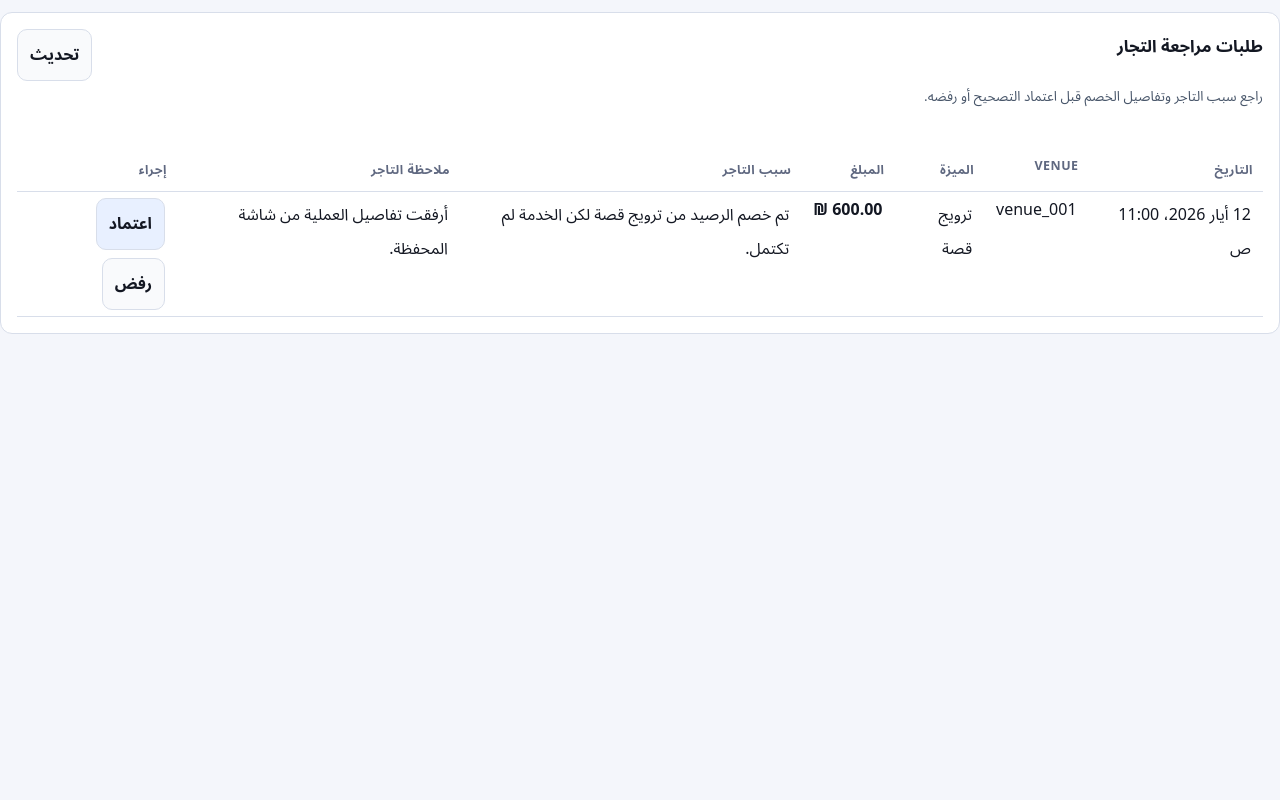
Test: MerchantReversalReviewPanel › shows super admin second approval path for amount 600
Click the button with aria-label "اعتماد طلب مراجعة merchant_review_entry-001" at x=130, y=224, box left=96, top=198, right=165, bottom=250
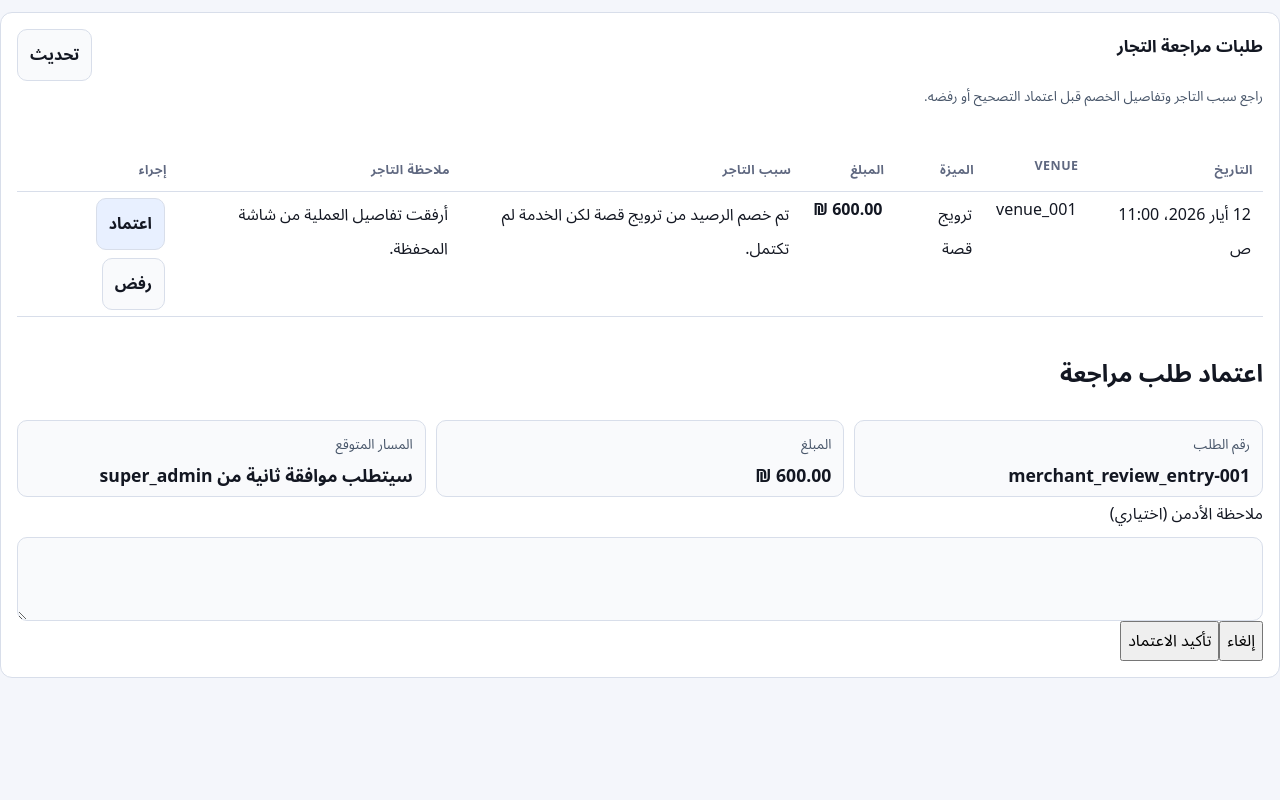
Expected: the text "سيتطلب موافقة ثانية من super_admin" is shown, left=100, top=463, right=413, bottom=487
